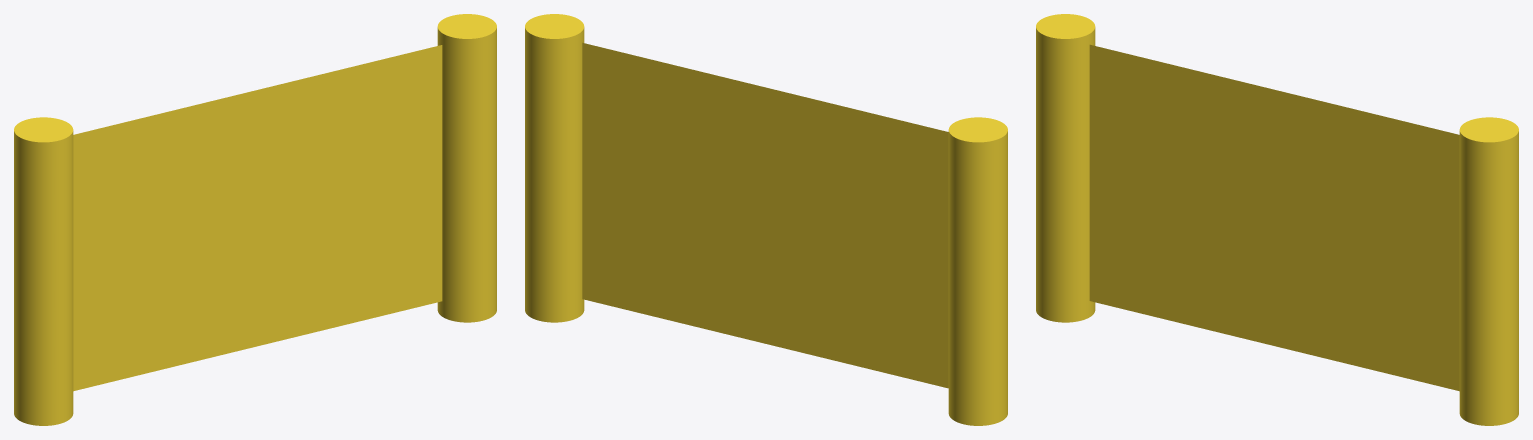
The model's file is door.FBX.
The picture shows the model from 3 angles, left to right: view 1: azimuth 30°, elevation 25°; view 2: azimuth 150°, elevation 25°; view 3: azimuth 330°, elevation 25°; orthographic projection.
Parts seen in each view (by area): view 1: Plane001, Cylinder001, Cylinder002; view 2: Plane001, Cylinder001, Cylinder002; view 3: Plane001, Cylinder002, Cylinder001.
Part boxes in pixels (x1,y1,x2,y2): Plane001: [73, 45, 442, 391]; Cylinder001: [14, 117, 73, 425]; Cylinder002: [437, 14, 496, 322]; Plane001: [582, 42, 948, 388]; Cylinder001: [948, 117, 1007, 425]; Cylinder002: [525, 14, 584, 322]; Plane001: [1089, 44, 1459, 391]; Cylinder002: [1459, 117, 1518, 425]; Cylinder001: [1036, 14, 1095, 322].
Bounding box in the file's own units: 49.32 × 28.13 × 5.33.
